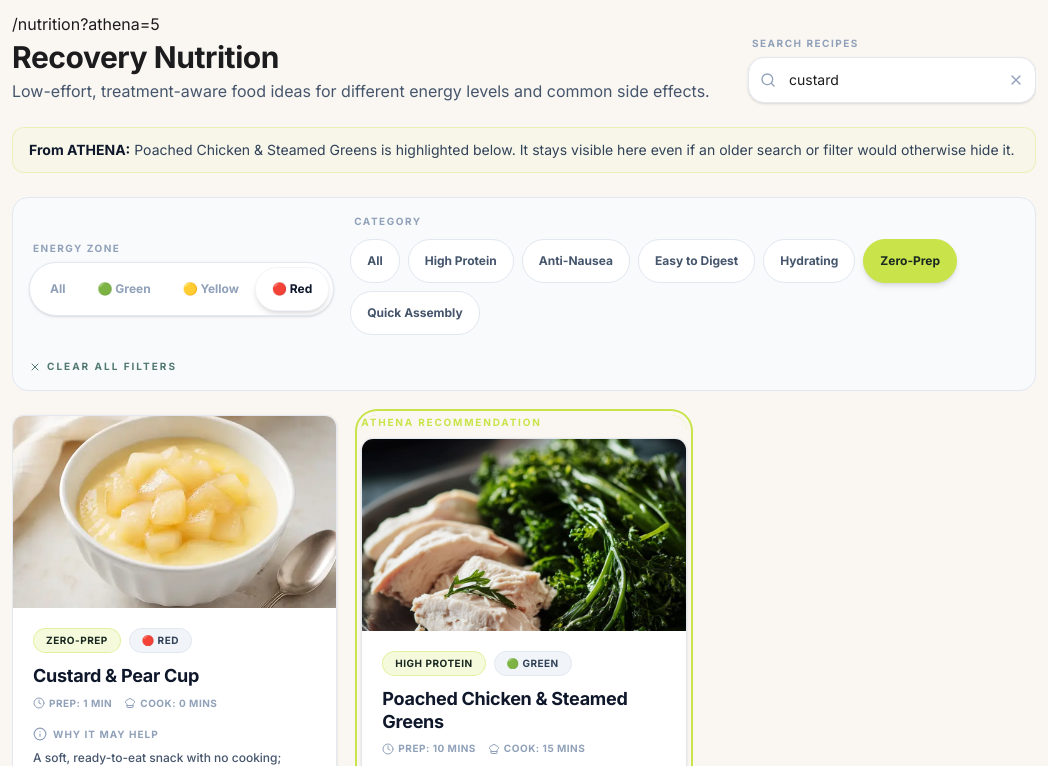
Test: ATHENA recommendation destinations › keeps a linked recipe visible against older filters, focuses it, then restores normal filtering after search input
Expected: the text "highlighted below" shows "Poached Chicken & Steamed Greens", 134,141 -> 377,158
Expected: the heading "Poached Chicken & Steamed Greens" is shown, 382,688 -> 666,733
Type "x" into the field labelled "Search recipes".
click(892, 80); type("x")  # box 748,57 -> 1036,103
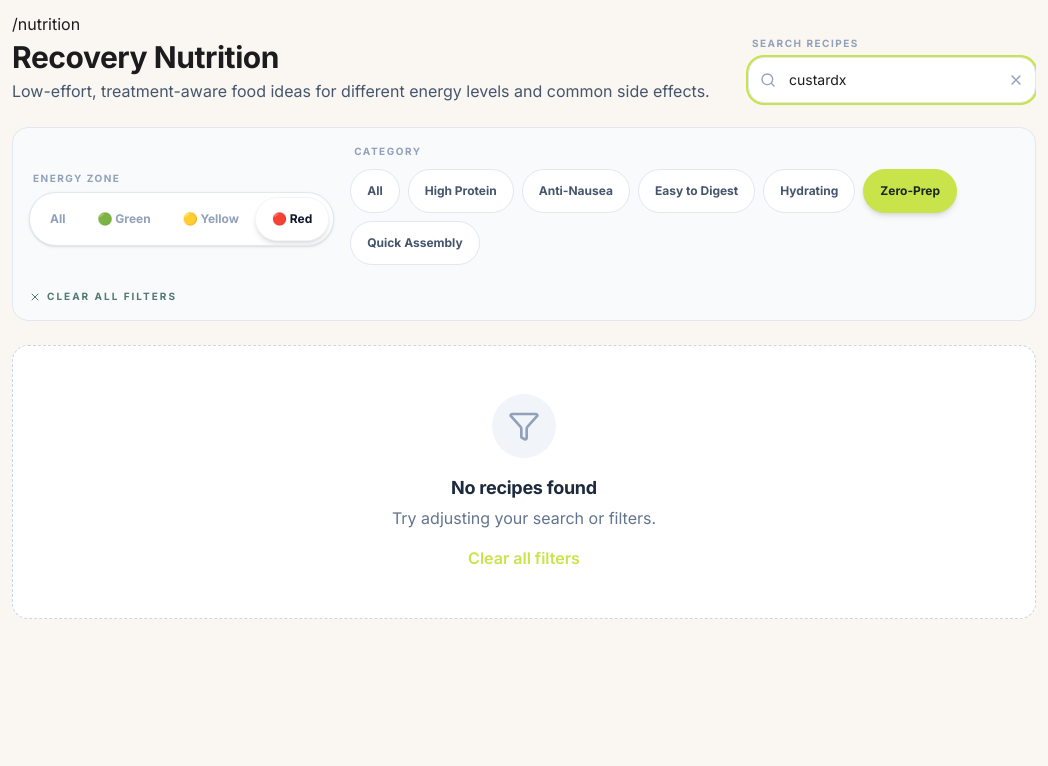
Expected: the text with test id "location" reads "/nutrition", 12,14 -> 80,34
Expected: the text "From ATHENA:" is gone
Expected: the text "Poached Chicken & Steamed Greens" is gone
